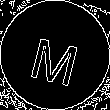M_N: (27, 25, 83, 85)
